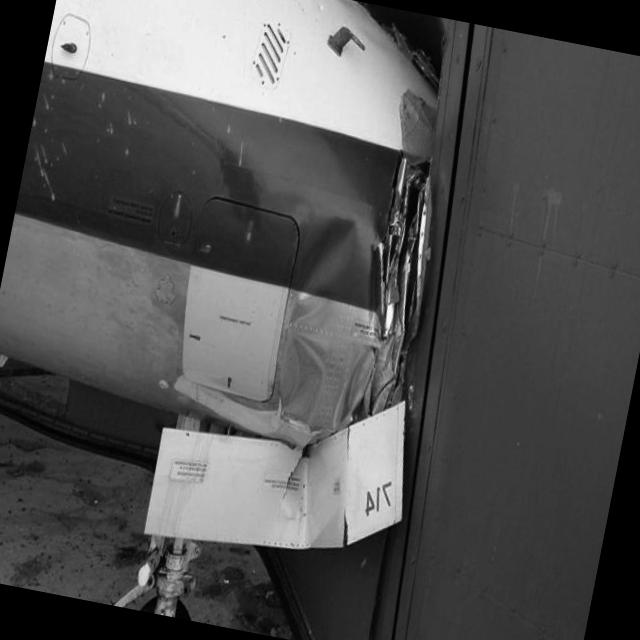dent: (271, 210, 363, 426)
